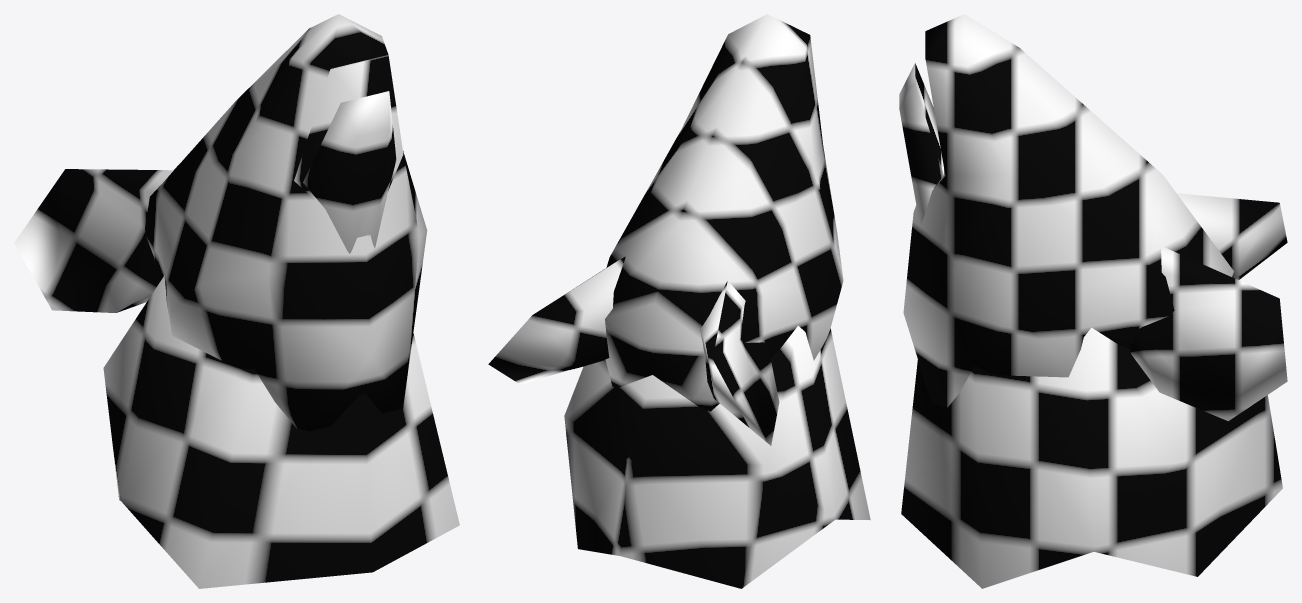
The model's file is infaunanwira.dae.
The picture shows the model from 3 angles, left to right: view 1: azimuth 30°, elevation 25°; view 2: azimuth 150°, elevation 25°; view 3: azimuth 270°, elevation 25°; orthographic projection. The views are drawn at different scales.
Parts seen in each view (by area): view 1: face; view 2: face; view 3: face.
Boxes of the visible parts, x1=… form: face: x1=14, y1=14, x2=459, y2=588; face: x1=488, y1=14, x2=870, y2=588; face: x1=899, y1=14, x2=1287, y2=588.
Bounding box in the file's own units: 0.8976 × 1.06 × 1.56.
1 material, 1 textured.
